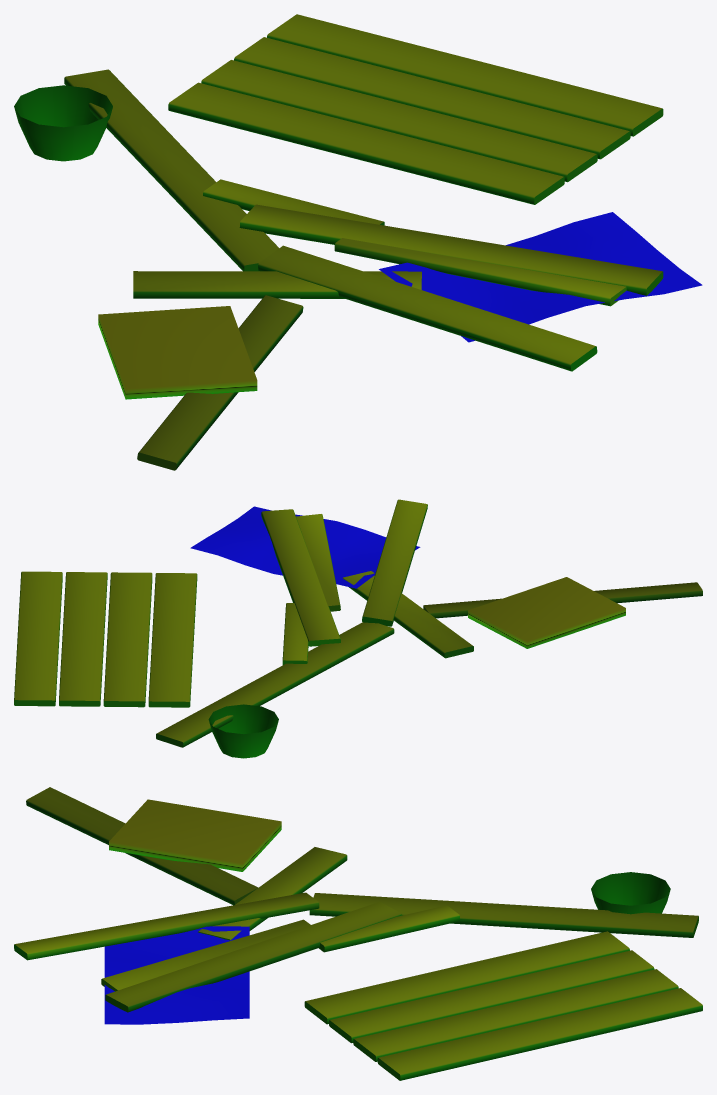
Rendered from flood_debris.glb.
3 views of the same model, one above another, from view 1: azimuth 30°, elevation 25°; view 2: azimuth 150°, elevation 25°; view 3: azimuth 270°, elevation 25° (orthographic). The views are drawn at different scales.
Visible parts, largest first — view 1: flood_debris; view 2: flood_debris; view 3: flood_debris.
Part boxes in pixels (<box>): flood_debris: <box>14,14,702,470</box>; flood_debris: <box>14,499,702,758</box>; flood_debris: <box>14,787,702,1080</box>.
Size of what is drawn, in the model's own units: 3.8 by 0.2 by 3.8.
